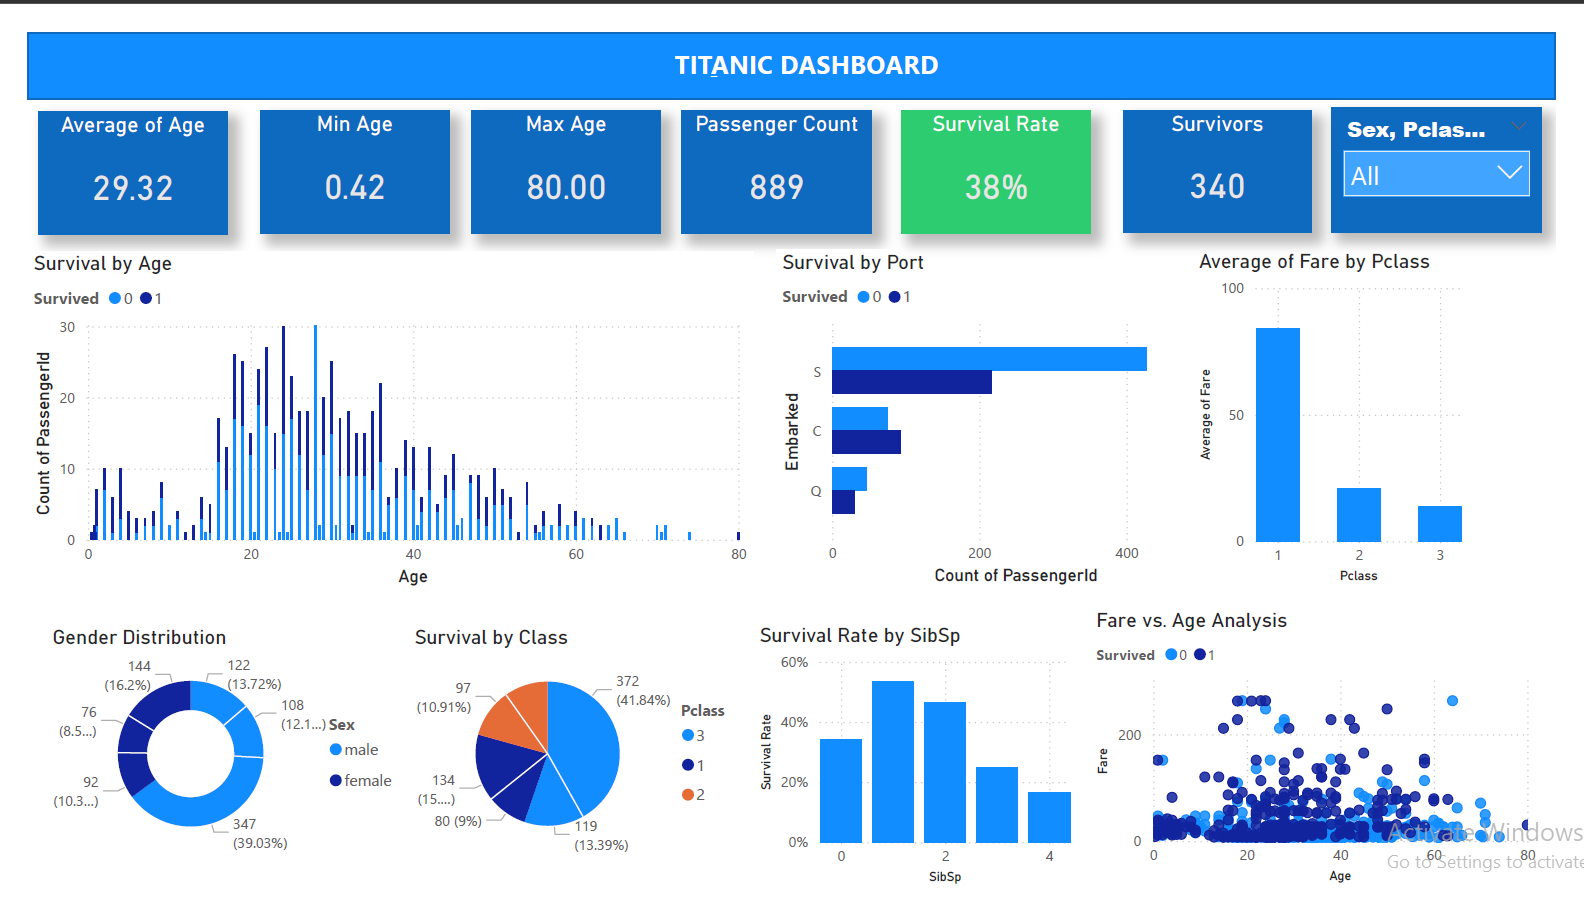

What the dashboard file says about the page in this screenshot:
{"tool":"powerbi","page":{"name":"DASHBOARD","canvas":[1280,720],"ordinal":0},"visuals":[{"type":"shape","box":[0,0,1280,56],"z":0},{"type":"textbox","box":[514.4,6.7,276.7,42.2],"z":1000},{"type":"card","title":"Average of Age","fields":{"Values":["Avg(titanic_clean.Age)"]},"box":[8.6,65.7,158.6,102.9],"z":2000},{"type":"card","title":"Min Age","fields":{"Values":["Min(titanic_clean.Age)"]},"box":[195,65,158.3,103.3],"z":3000},{"type":"card","title":"Max Age","fields":{"Values":["Max(titanic_clean.Age)"]},"box":[371.7,65,158.3,103.3],"z":4000},{"type":"card","title":"Passenger Count","fields":{"Values":["CountNonNull(titanic_clean.PassengerId)"]},"box":[548.3,65,158.3,103.3],"z":5000},{"type":"columnChart","title":"Survival by Age","fields":{"Category":["titanic_clean.Age"],"Y":["Count(titanic_clean.PassengerId)"],"Series":["titanic_clean.Survived"]},"box":[0,183.3,608.3,285],"z":6000},{"type":"donutChart","title":"Gender Distribution","fields":{"Category":["titanic_clean.Sex"],"Y":["CountNonNull(titanic_clean.PassengerId)"],"Series":["titanic_clean.Pclass"]},"box":[15.7,495.7,302.9,197.1],"z":7000},{"type":"pieChart","title":"Survival by Class","fields":{"Category":["titanic_clean.Pclass"],"Y":["CountNonNull(titanic_clean.PassengerId)"],"Series":["titanic_clean.Survived"]},"box":[319,496,290,197],"z":8000},{"type":"clusteredBarChart","title":"Survival by Port","fields":{"Category":["titanic_clean.Embarked"],"Y":["CountNonNull(titanic_clean.PassengerId)"],"Series":["titanic_clean.Survived"]},"box":[626.7,181.7,370,285],"z":9000},{"type":"columnChart","fields":{"Category":["titanic_clean.Pclass"],"Y":["Avg(titanic_clean.Fare)"]},"box":[976.2,181.2,230,285],"z":10000},{"type":"card","title":"Survival Rate","fields":{"Values":["titanic_clean.Survival Rate"]},"box":[731.7,65,158.3,103.3],"z":11000},{"type":"pivotTable","fields":{"Rows":["titanic_clean.Pclass"],"Columns":["titanic_clean.Sex"],"Values":["titanic_clean.Survival Rate"]},"box":[628.3,513.3,270,191.7],"z":12000},{"type":"clusteredColumnChart","fields":{"Category":["titanic_clean.SibSp"],"Y":["titanic_clean.Survival Rate"]},"box":[608,494,270,224],"z":13000},{"type":"scatterChart","title":"Fare vs. Age Analysis","fields":{"X":["Sum(titanic_clean.Age)"],"Y":["Sum(titanic_clean.Fare)"],"Series":["titanic_clean.Survived"],"Category":["titanic_clean.PassengerId"]},"box":[890,481.7,378.3,235],"z":14000},{"type":"slicer","fields":{"Values":["titanic_clean.Sex","titanic_clean.Pclass","titanic_clean.Embarked"]},"box":[1091.7,63.3,176.7,103.3],"z":15000},{"type":"card","title":"Survivors","fields":{"Values":["Sum(titanic_clean.Survived)"]},"box":[918.3,65,156.7,101.7],"z":16000}]}

Visuals, with their boxes on the page's 1280x720 design canvas (x1, y1, x2, y2). These are canvas units, not pixel positions in the 1584x921 screenshot, which may show the page scaled, cropped or inside an application window:
shape: bbox(0, 0, 1280, 56)
textbox: bbox(514, 7, 791, 49)
"Average of Age" card: bbox(9, 66, 167, 169)
"Min Age" card: bbox(195, 65, 353, 168)
"Max Age" card: bbox(372, 65, 530, 168)
"Passenger Count" card: bbox(548, 65, 707, 168)
"Survival by Age" columnChart: bbox(0, 183, 608, 468)
"Gender Distribution" donutChart: bbox(16, 496, 319, 693)
"Survival by Class" pieChart: bbox(319, 496, 609, 693)
"Survival by Port" clusteredBarChart: bbox(627, 182, 997, 467)
columnChart - titanic_clean.Pclass x Avg(titanic_clean.Fare): bbox(976, 181, 1206, 466)
"Survival Rate" card: bbox(732, 65, 890, 168)
pivotTable - titanic_clean.Pclass x titanic_clean.Sex: bbox(628, 513, 898, 705)
clusteredColumnChart - titanic_clean.SibSp x titanic_clean.Survival Rate: bbox(608, 494, 878, 718)
"Fare vs. Age Analysis" scatterChart: bbox(890, 482, 1268, 717)
slicer - titanic_clean.Sex x titanic_clean.Pclass: bbox(1092, 63, 1268, 167)
"Survivors" card: bbox(918, 65, 1075, 167)
